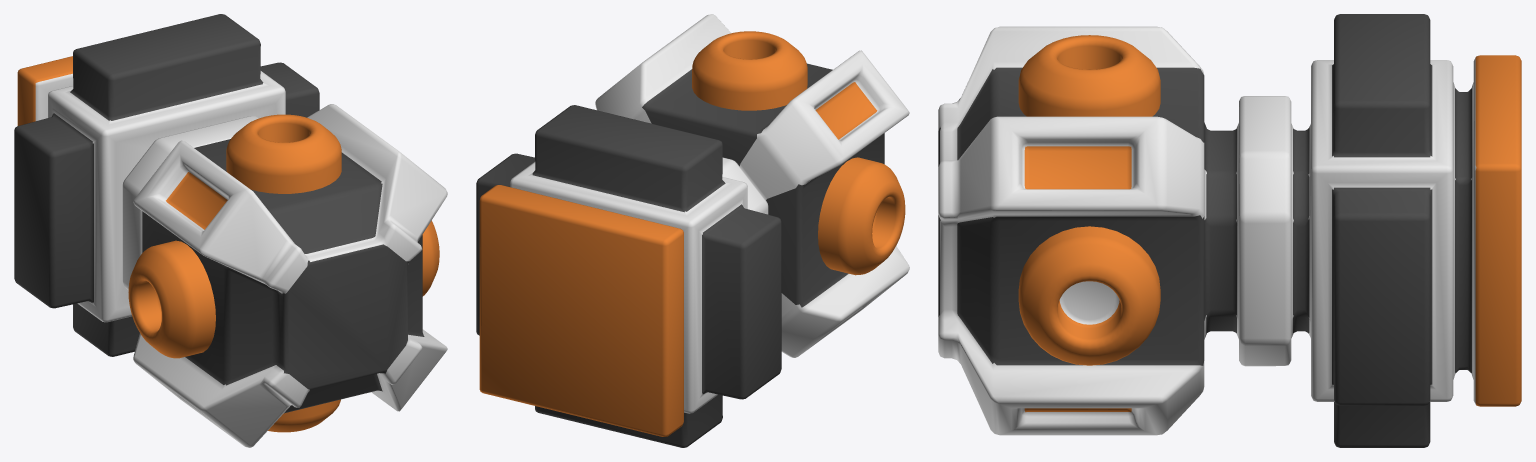
The model's file is Robot_Part_03.fbx.
The picture shows the model from 3 angles, left to right: view 1: azimuth 30°, elevation 25°; view 2: azimuth 150°, elevation 25°; view 3: azimuth 270°, elevation 25°; orthographic projection. The views are drawn at different scales.
Visible parts, largest first — view 1: Robot_Part_03; view 2: Robot_Part_03; view 3: Robot_Part_03.
Part boxes in pixels (box(x1,y1,x2,y2)): Robot_Part_03: box(14, 14, 447, 447); Robot_Part_03: box(476, 14, 909, 447); Robot_Part_03: box(938, 14, 1521, 447).
Bounding box in the file's own units: 1.24 × 1.24 × 1.85.
